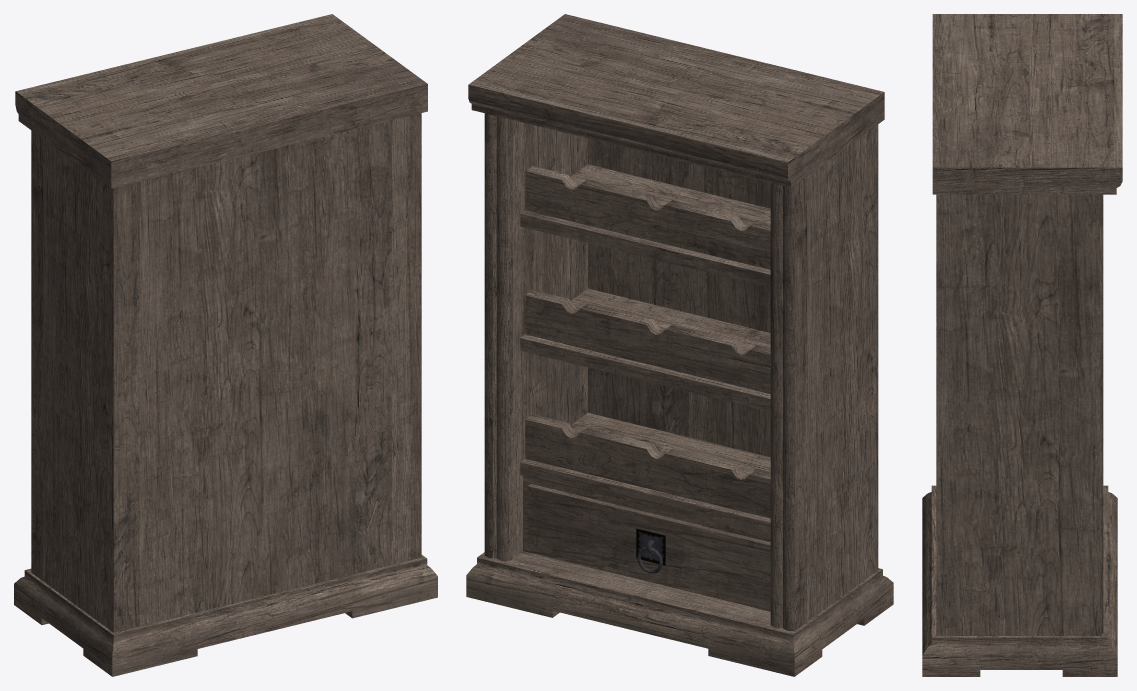
File: mw_wine_rack_02.FBX
3 renders of one model, left to right at view 1: azimuth 30°, elevation 25°; view 2: azimuth 150°, elevation 25°; view 3: azimuth 270°, elevation 25°, orthographic.
Visible parts, largest first — view 1: mw_wine_rack_02; view 2: mw_wine_rack_02; view 3: mw_wine_rack_02.
Part boxes in pixels (left/top/right/bottom): mw_wine_rack_02: left=14, top=14, right=437, bottom=676; mw_wine_rack_02: left=466, top=14, right=893, bottom=676; mw_wine_rack_02: left=922, top=14, right=1122, bottom=676.
Bounding box in the file's own units: 138 × 207 × 74.06.
